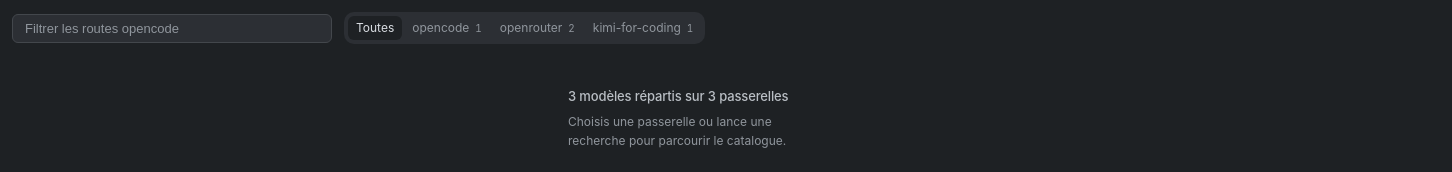
Test: OpenCodeRouter — accessibilité › choisir une passerelle filtre le catalogue sans recherche texte
Click the radio button labelled "opencode 1" at [447, 28], box top-left (404, 16), bottom-right (490, 40)
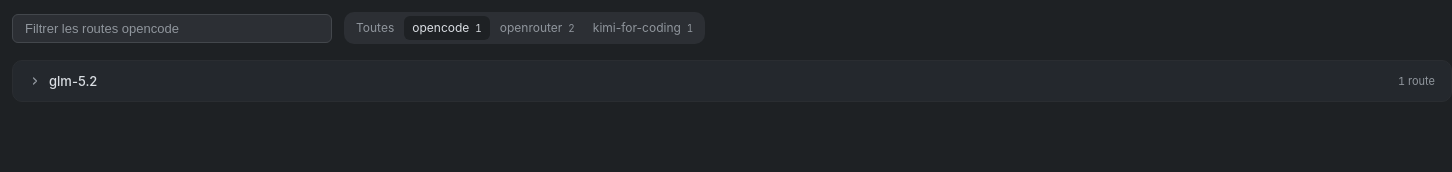
Result: the button with aria-label "déplier glm-5.2" is shown at top-left (17, 65), bottom-right (1447, 97)
